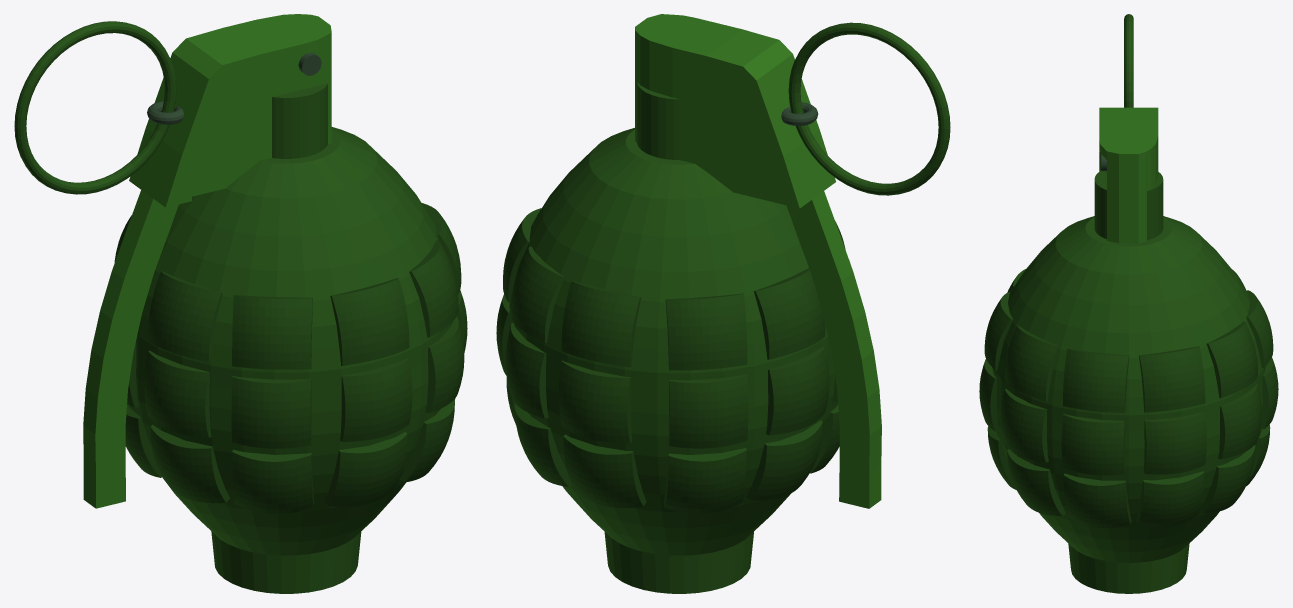
Rendered from Grenade.fbx.
The picture shows the model from 3 angles, left to right: view 1: azimuth 30°, elevation 25°; view 2: azimuth 150°, elevation 25°; view 3: azimuth 270°, elevation 25°; orthographic projection. The views are drawn at different scales.
Parts seen in each view (by area): view 1: Cylinder, Cube.008, Cube, Torus.001, Torus.000; view 2: Cylinder, Cube.008, Cube, Torus.001, Torus.000; view 3: Cylinder, Cube.008, Cube, Torus.001.
Part boxes in pixels (x1,y1,x2,y2): Cylinder: (128, 83, 452, 593); Cube.008: (114, 203, 467, 513); Cube: (83, 14, 331, 508); Torus.001: (14, 21, 176, 194); Torus.000: (147, 101, 183, 124); Cylinder: (509, 82, 837, 593); Cube.008: (496, 208, 845, 513); Cube: (635, 14, 881, 508); Torus.001: (788, 22, 950, 195); Torus.000: (781, 102, 818, 125); Cylinder: (992, 171, 1265, 593); Cube.008: (979, 269, 1278, 528); Cube: (1099, 107, 1158, 243); Torus.001: (1124, 14, 1133, 107).
Bounding box in the file's own units: 688 × 901 × 516.
